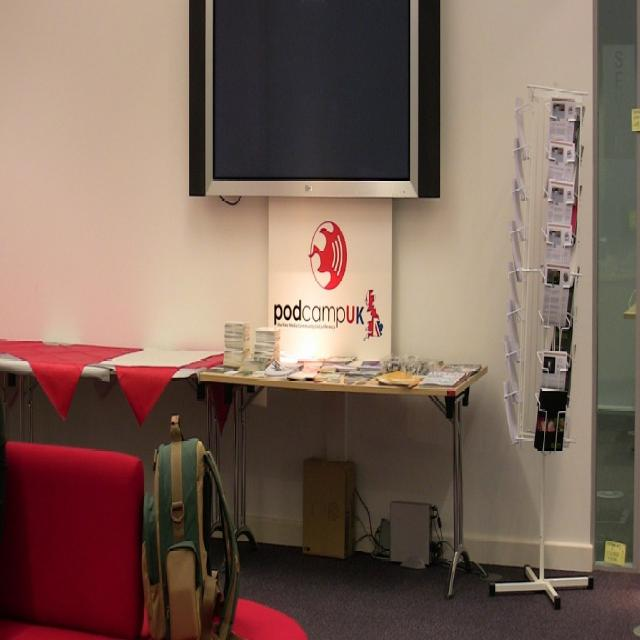chair: (0, 441, 146, 632)
desk: (199, 345, 489, 599)
tv: (187, 1, 442, 206)
